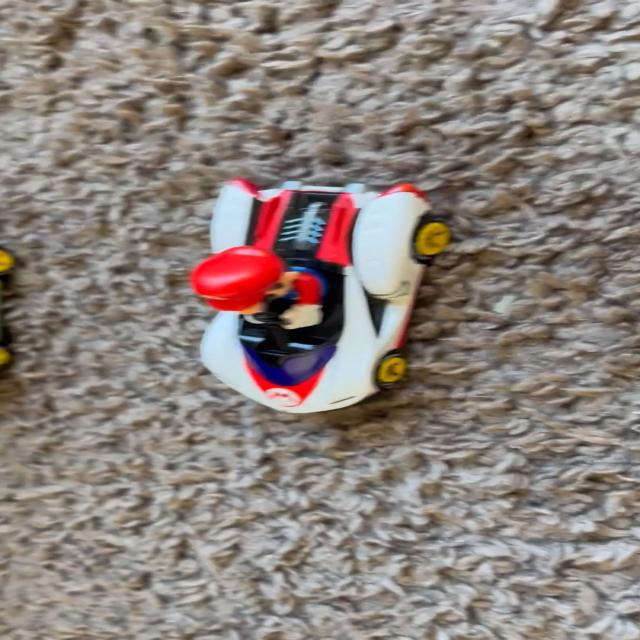mario: (175, 181, 468, 423)
